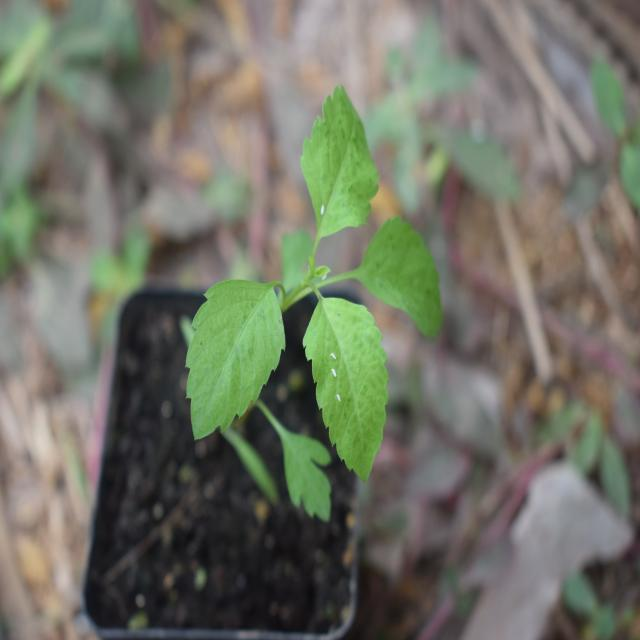Bidens pilosa: (162, 88, 444, 452)
